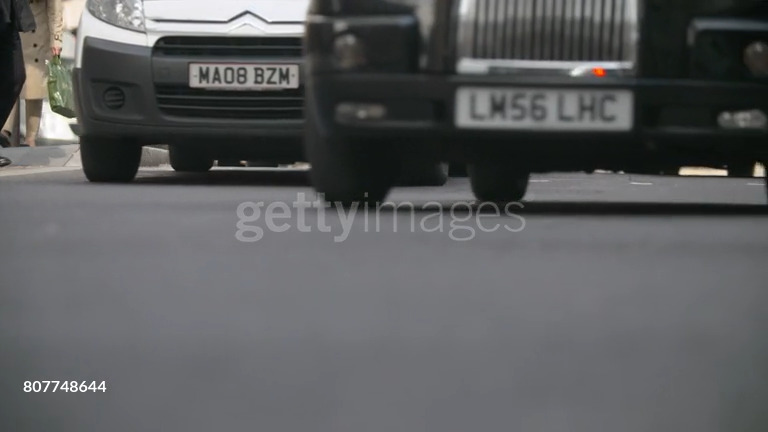car number: (457, 86, 634, 127), (187, 63, 300, 89)
